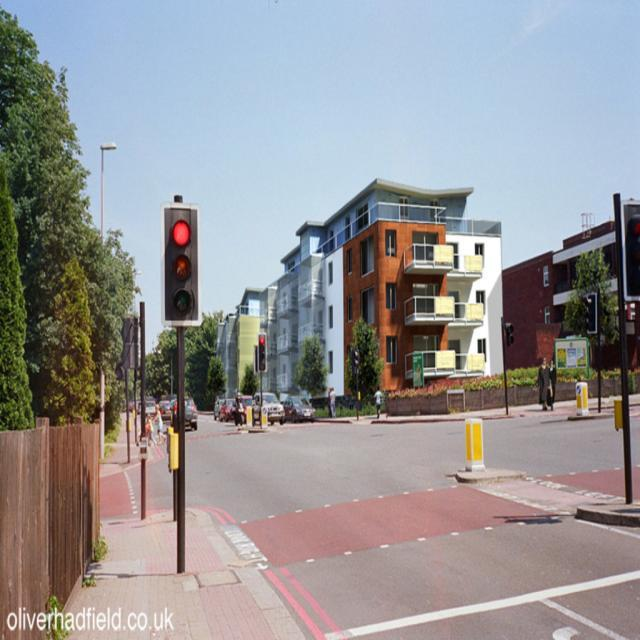off traffic light: (623, 203, 640, 297), (584, 295, 595, 332)
traffic light: (164, 208, 198, 320), (259, 334, 266, 370)
